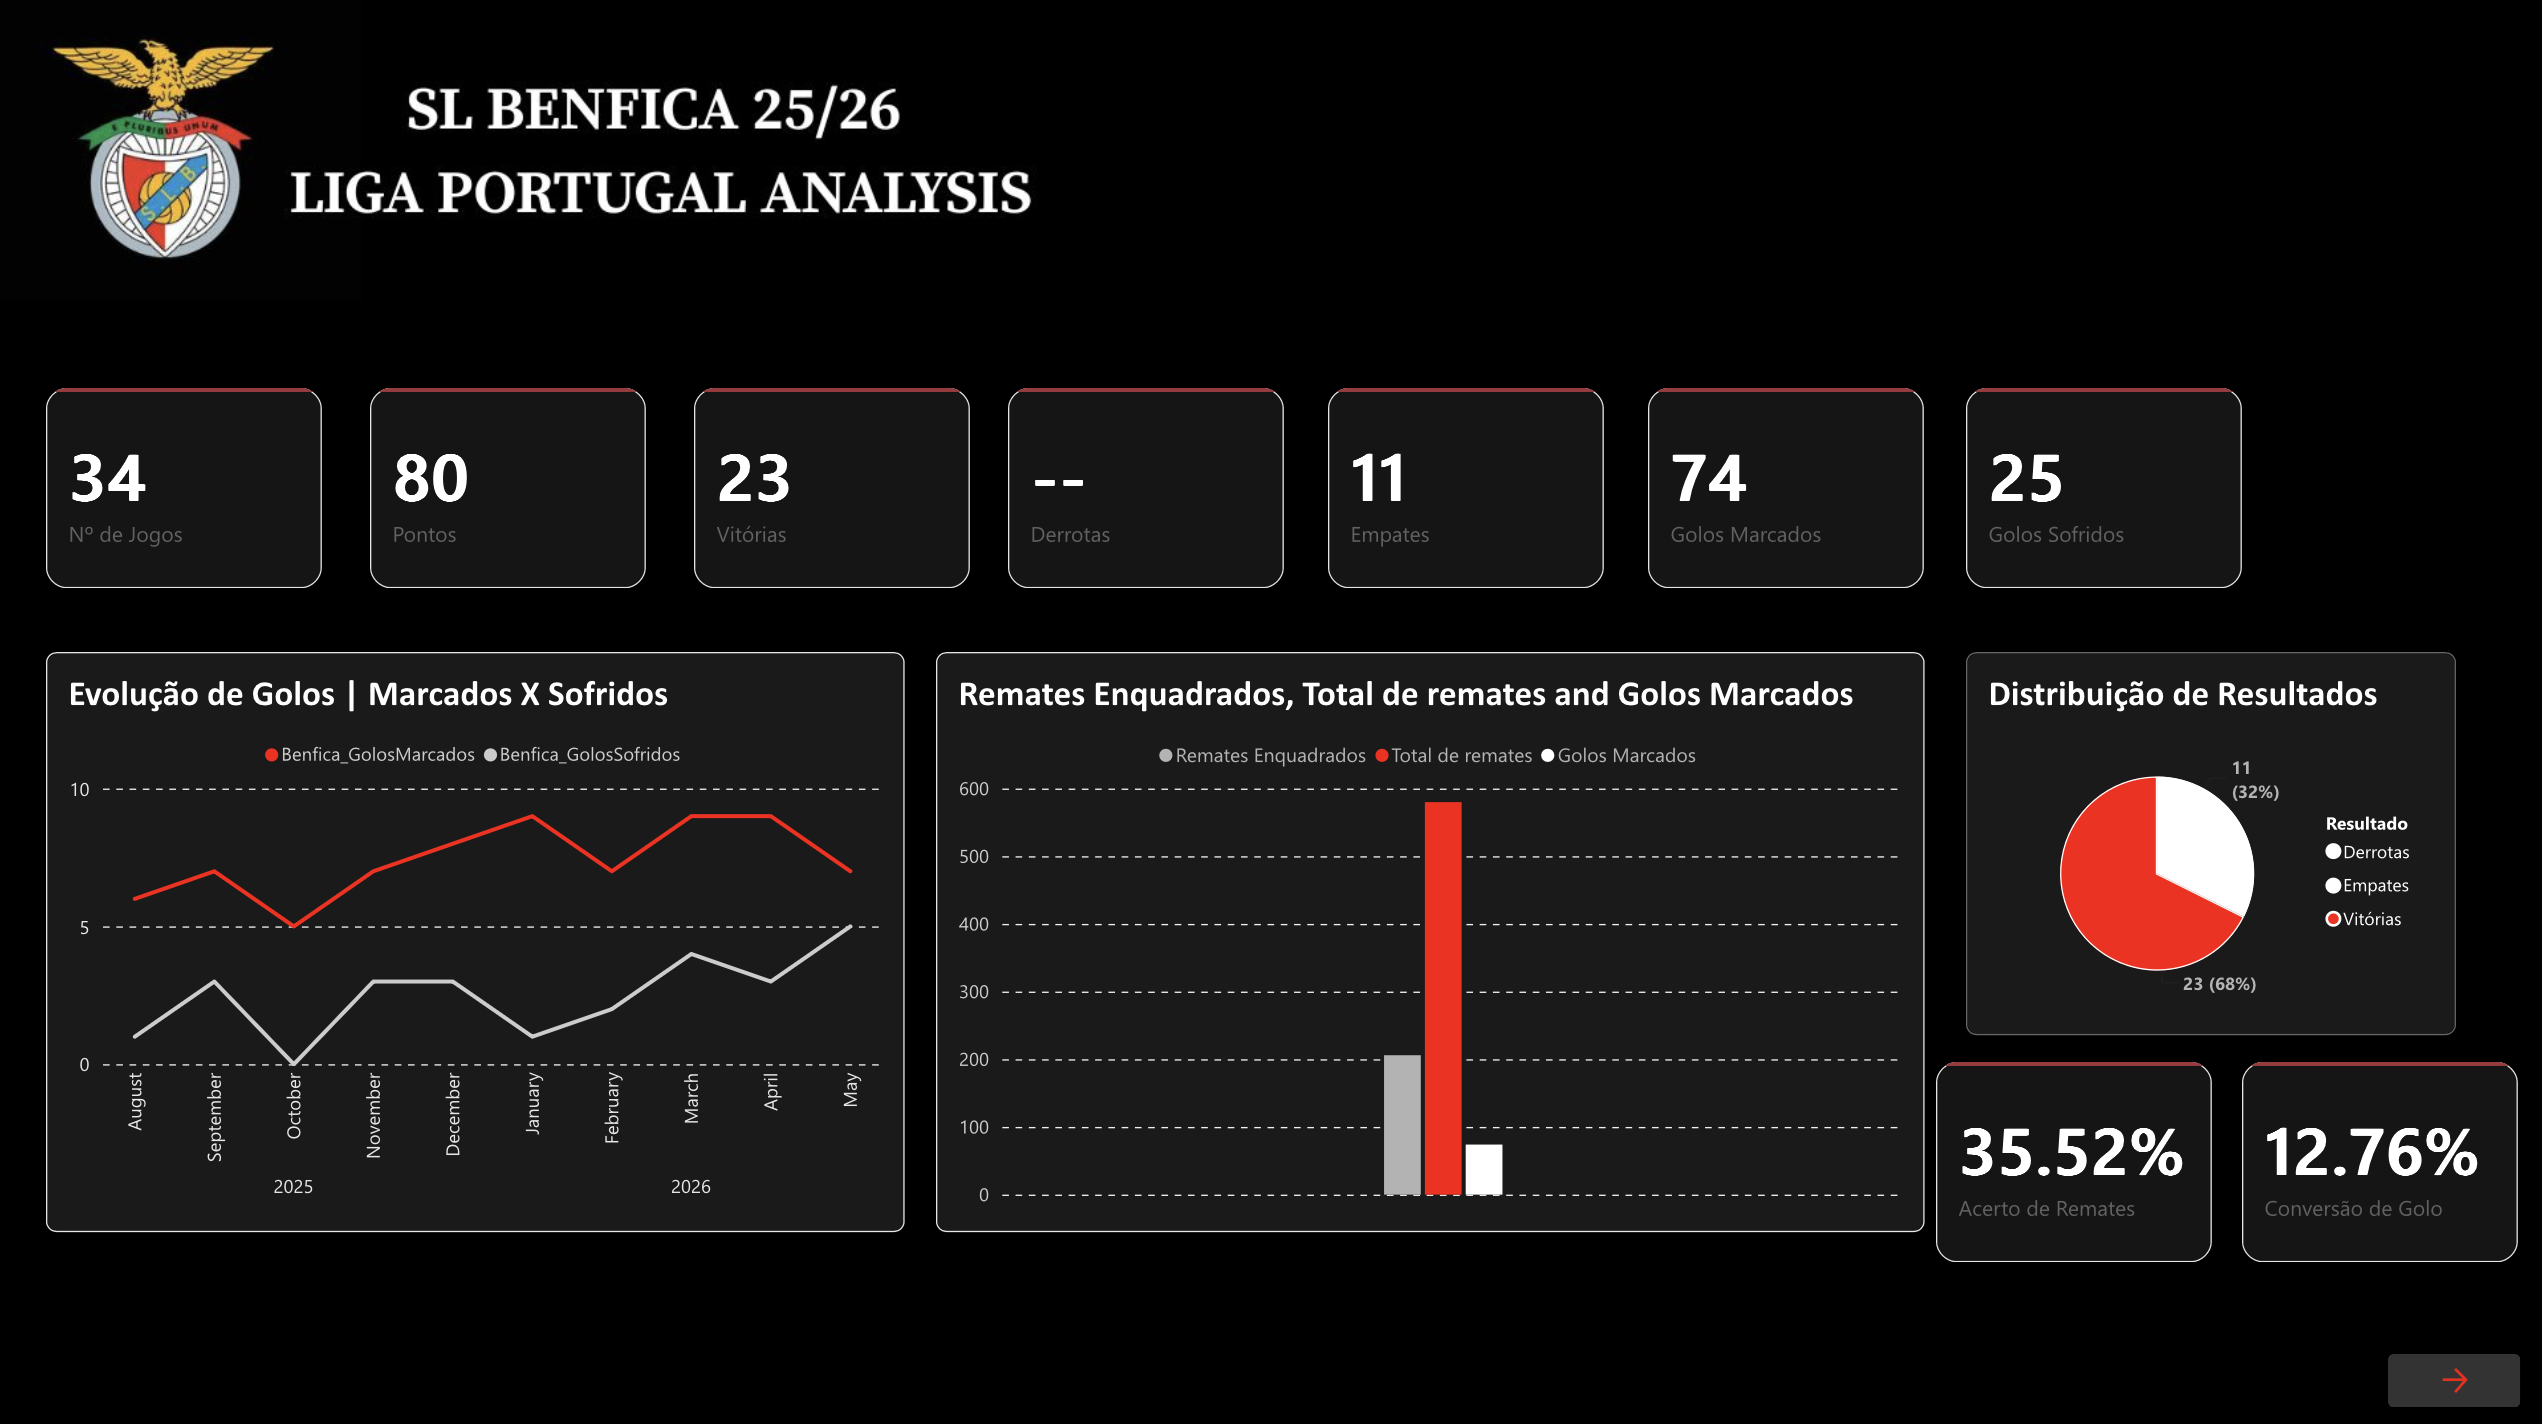

This screenshot's page, from the dashboard's own definition file:
{"tool":"powerbi","page":{"name":"Page 1","canvas":[1920,1080],"ordinal":0},"visuals":[{"type":"cardVisual","fields":{"Data":["testeliga cvs.Benfica_Empates"]},"box":[1002.9,292.3,208,151],"z":0},{"type":"cardVisual","fields":{"Data":["testeliga cvs.Benfica_Pontos"]},"box":[280,292.3,208,151],"z":1000},{"type":"cardVisual","fields":{"Data":["testeliga cvs.Benfica_TotalJogos"]},"box":[36.8,292.3,208,151],"z":2000},{"type":"cardVisual","fields":{"Data":["testeliga cvs.Benfica_Vitorias"]},"box":[525.1,292.3,208,151],"z":3000},{"type":"cardVisual","fields":{"Data":["testeliga cvs.Benfica_Derrotas"]},"box":[761.3,292.3,208,151],"z":4000},{"type":"pieChart","title":"Distribuição de Resultados","fields":{"Y":["testeliga cvs.Benfica_Derrotas","testeliga cvs.Benfica_Empates","testeliga cvs.Benfica_Vitorias"]},"box":[1484.2,491.8,369.3,288.8],"z":5000},{"type":"lineChart","title":"Evolução de Golos | Marcados X Sofridos","fields":{"Category":["testeliga cvs.Date.Variation.Date Hierarchy.Year","testeliga cvs.Date.Variation.Date Hierarchy.Month"],"Y":["testeliga cvs.Benfica_GolosMarcados","testeliga cvs.Benfica_GolosSofridos"]},"box":[36.8,491.8,647.6,437.6],"z":6000},{"type":"cardVisual","fields":{"Data":["testeliga cvs.Benfica_GolosSofridos"]},"box":[1484.2,292.3,208,151],"z":7000},{"type":"cardVisual","fields":{"Data":["testeliga cvs.Benfica_GolosMarcados"]},"box":[1244.4,292.3,208,151],"z":8000},{"type":"clusteredColumnChart","fields":{"Y":["testeliga cvs.Benfica_RematesEnquadrados","testeliga cvs.Benfica_RematesTotais","testeliga cvs.Benfica_GolosMarcados"]},"box":[707.1,491.8,745.6,437.6],"z":9000},{"type":"cardVisual","fields":{"Data":["testeliga cvs.Benfica_TaxaConversao"]},"box":[1692.5,801.6,208,151],"z":10000},{"type":"cardVisual","fields":{"Data":["testeliga cvs.Benfica_TaxaAcertoRemates"]},"box":[1461.4,801.6,208,151],"z":11000},{"type":"actionButton","box":[1802.7,1020.4,99.8,40.3],"z":11001}]}

Visuals, with their boxes in screenshot pixels (x1, y1, x2, y2), scaled from the page's 1920x1080 canvas onto the 2542x1424 screenshot:
cardVisual - testeliga cvs.Benfica_Empates: <region>1328, 385, 1603, 584</region>
cardVisual - testeliga cvs.Benfica_Pontos: <region>371, 385, 646, 584</region>
cardVisual - testeliga cvs.Benfica_TotalJogos: <region>49, 385, 324, 584</region>
cardVisual - testeliga cvs.Benfica_Vitorias: <region>695, 385, 971, 584</region>
cardVisual - testeliga cvs.Benfica_Derrotas: <region>1008, 385, 1283, 584</region>
"Distribuição de Resultados" pieChart: <region>1965, 648, 2454, 1029</region>
"Evolução de Golos | Marcados X Sofridos" lineChart: <region>49, 648, 906, 1225</region>
cardVisual - testeliga cvs.Benfica_GolosSofridos: <region>1965, 385, 2240, 584</region>
cardVisual - testeliga cvs.Benfica_GolosMarcados: <region>1648, 385, 1923, 584</region>
clusteredColumnChart - testeliga cvs.Benfica_RematesEnquadrados x testeliga cvs.Benfica_RematesTotais: <region>936, 648, 1923, 1225</region>
cardVisual - testeliga cvs.Benfica_TaxaConversao: <region>2241, 1057, 2516, 1256</region>
cardVisual - testeliga cvs.Benfica_TaxaAcertoRemates: <region>1935, 1057, 2210, 1256</region>
actionButton: <region>2387, 1345, 2519, 1399</region>
